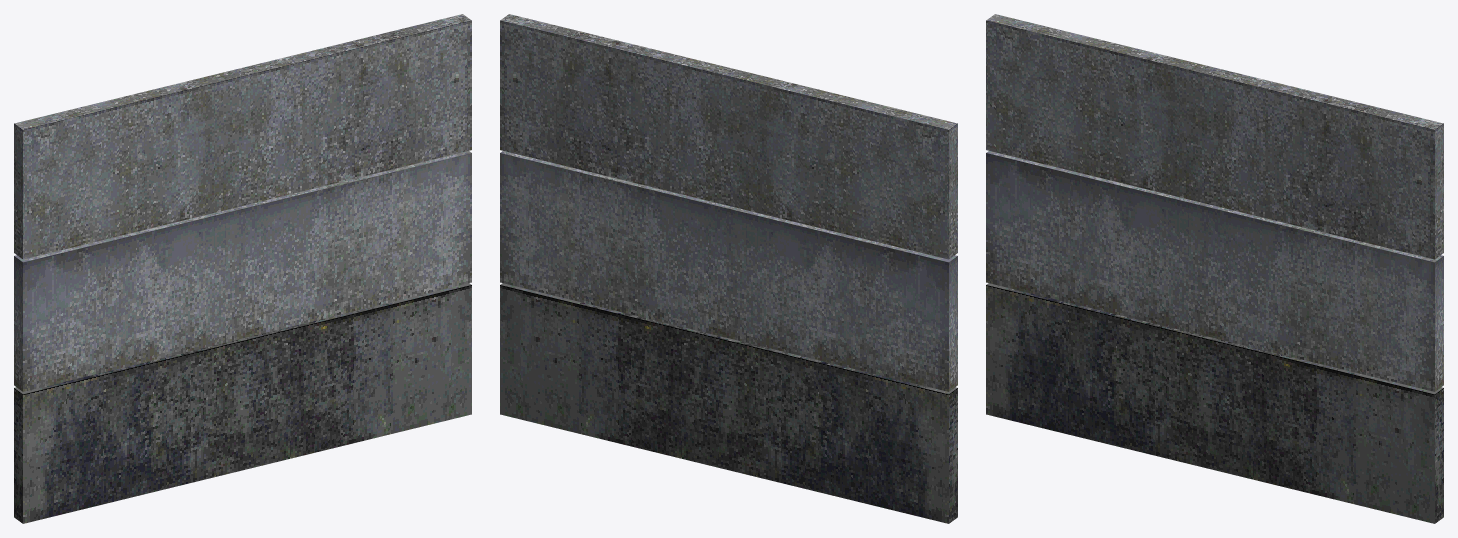
Rendered from plackard_slab_full.glb.
The picture shows the model from 3 angles, left to right: view 1: azimuth 30°, elevation 25°; view 2: azimuth 150°, elevation 25°; view 3: azimuth 330°, elevation 25°; orthographic projection.
Parts seen in each view (by area): view 1: plackard_slab_full; view 2: plackard_slab_full; view 3: plackard_slab_full.
Part boxes in pixels (x1=…): plackard_slab_full: x1=14, y1=14, x2=471, y2=523; plackard_slab_full: x1=500, y1=14, x2=957, y2=523; plackard_slab_full: x1=986, y1=14, x2=1443, y2=523.
Size of the model in its own units: 2.9 by 2.43 by 0.1.
Materials: 1 (1 with a texture image).
